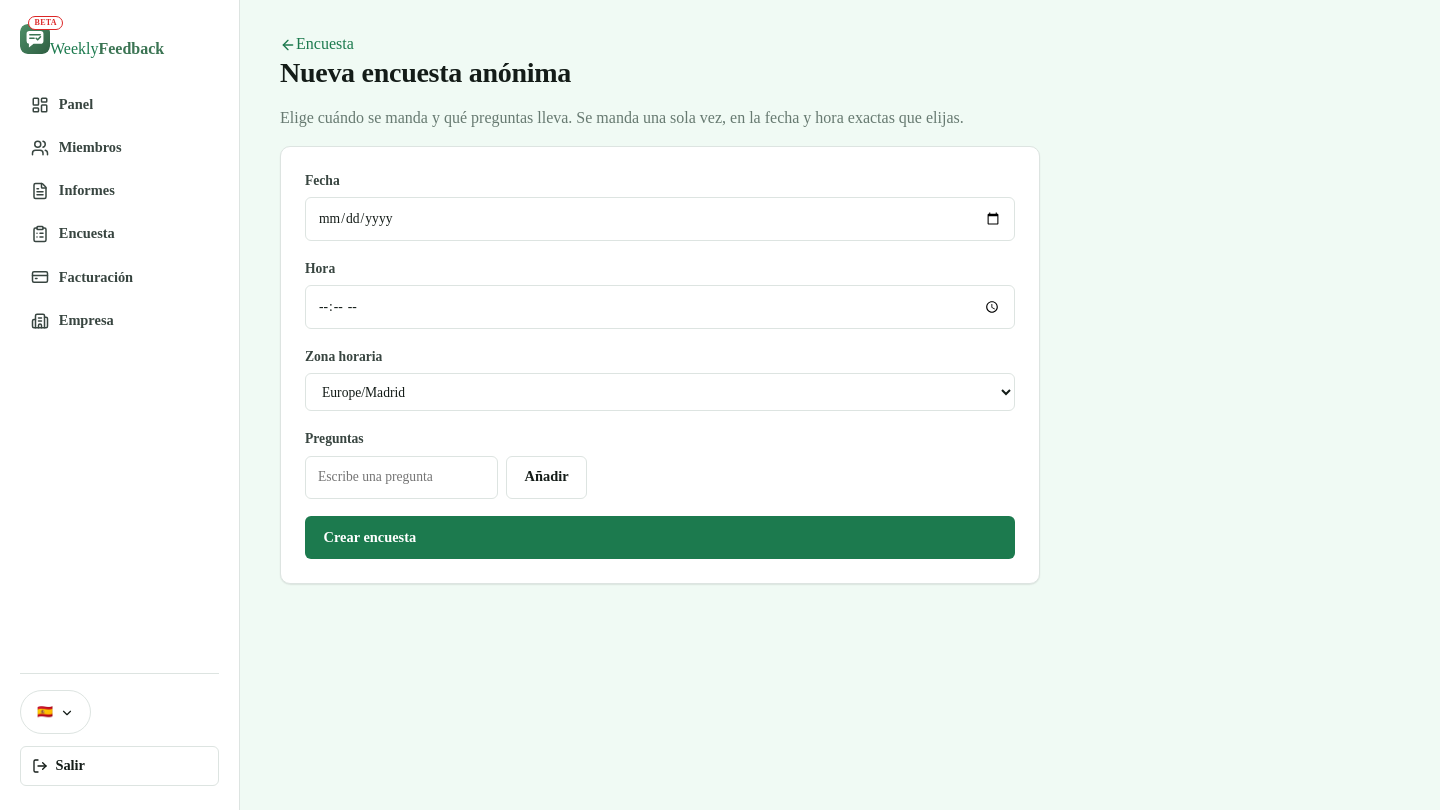
NewSurveyPage › fallo que no es ApiError: mensaje genérico
Type "2099-01-01" into the date field labelled "Fecha". click: (660, 219)
box: x1=305 y1=197 x2=1015 y2=241
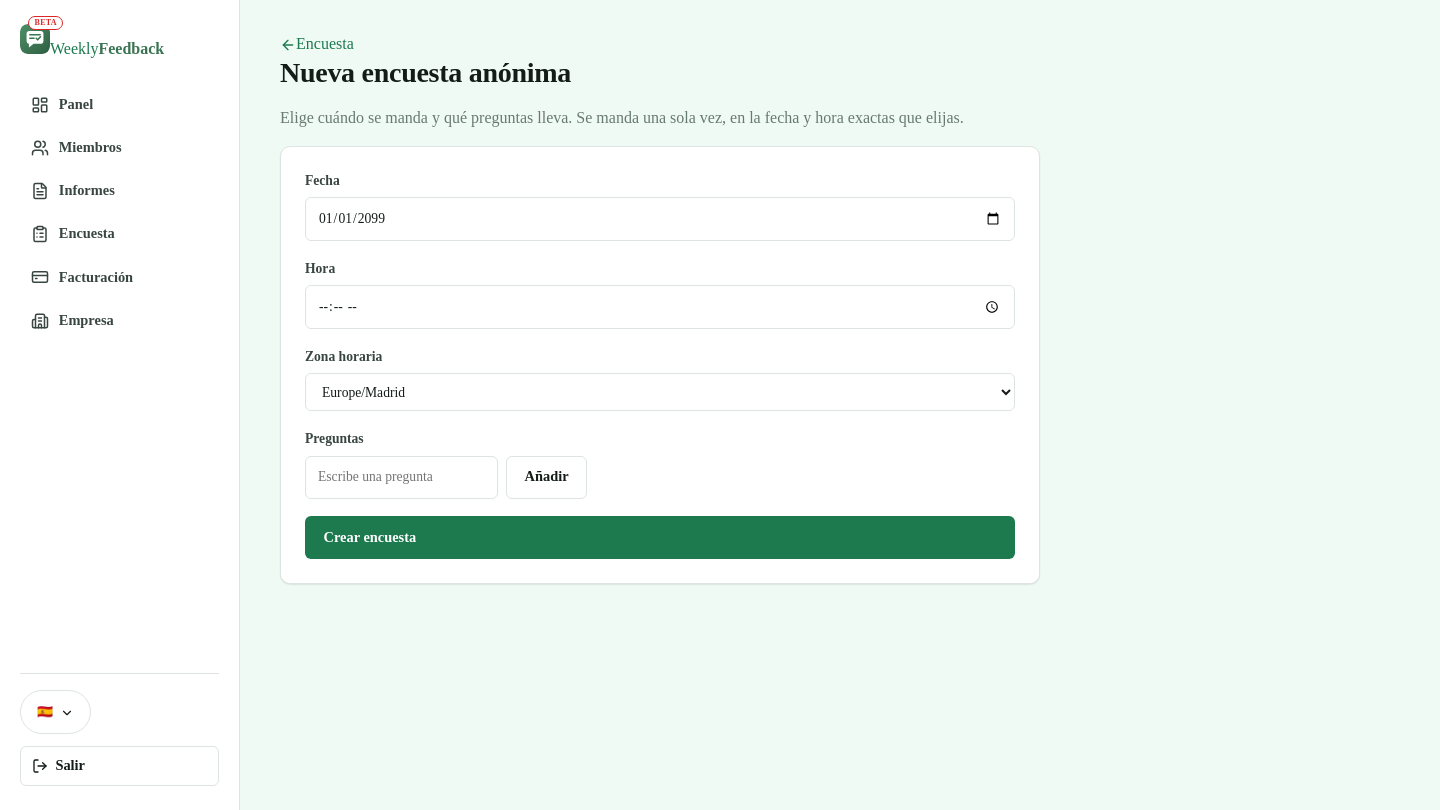
Type "10:00" into the time field labelled "Hora". click: (660, 307)
box: x1=305 y1=285 x2=1015 y2=329
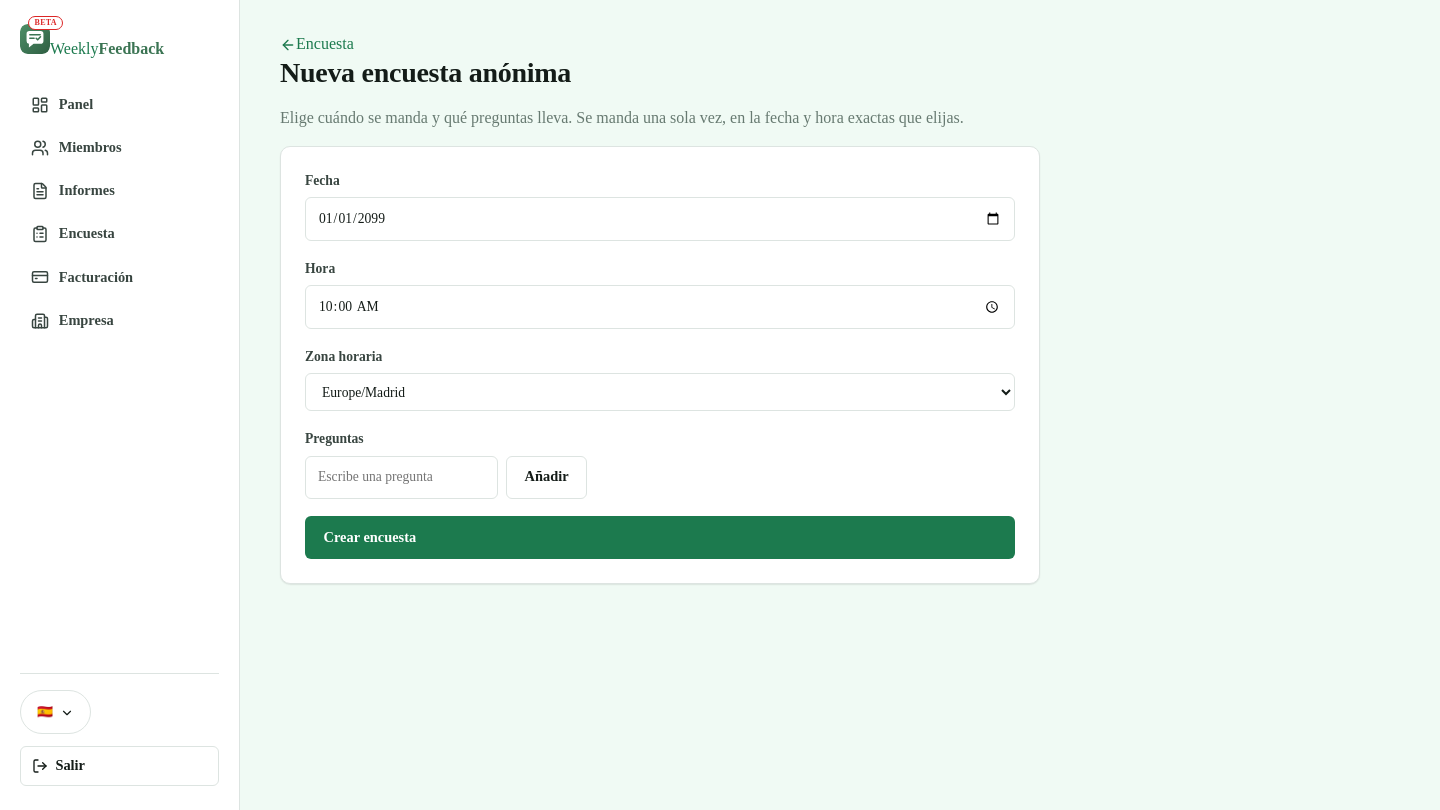
Type "¿Qué tal?" into the field with placeholder "Escribe una pregunta". click: (402, 477)
box: x1=305 y1=456 x2=498 y2=499
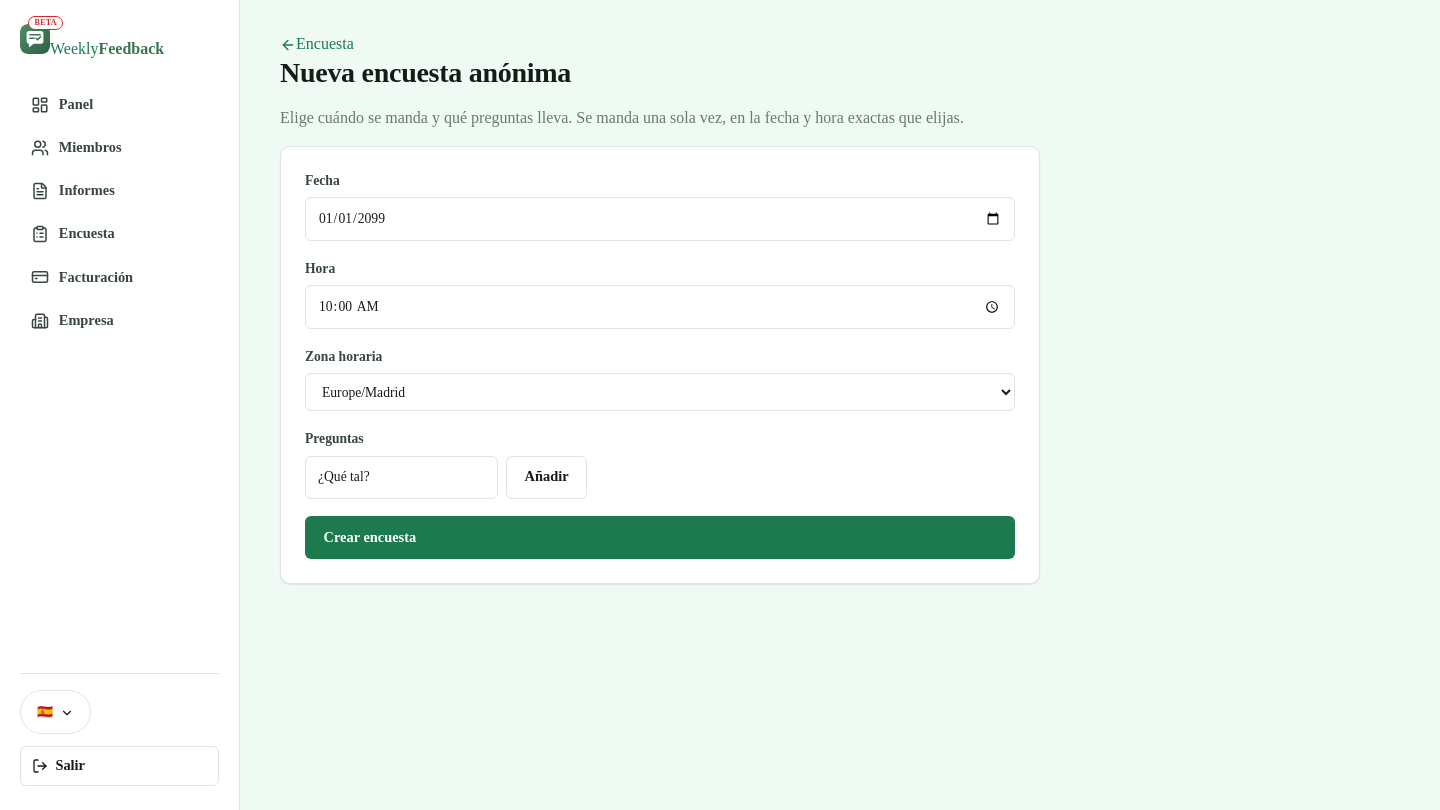
Click the button "Añadir". click: (547, 477)
box: x1=506 y1=456 x2=587 y2=499
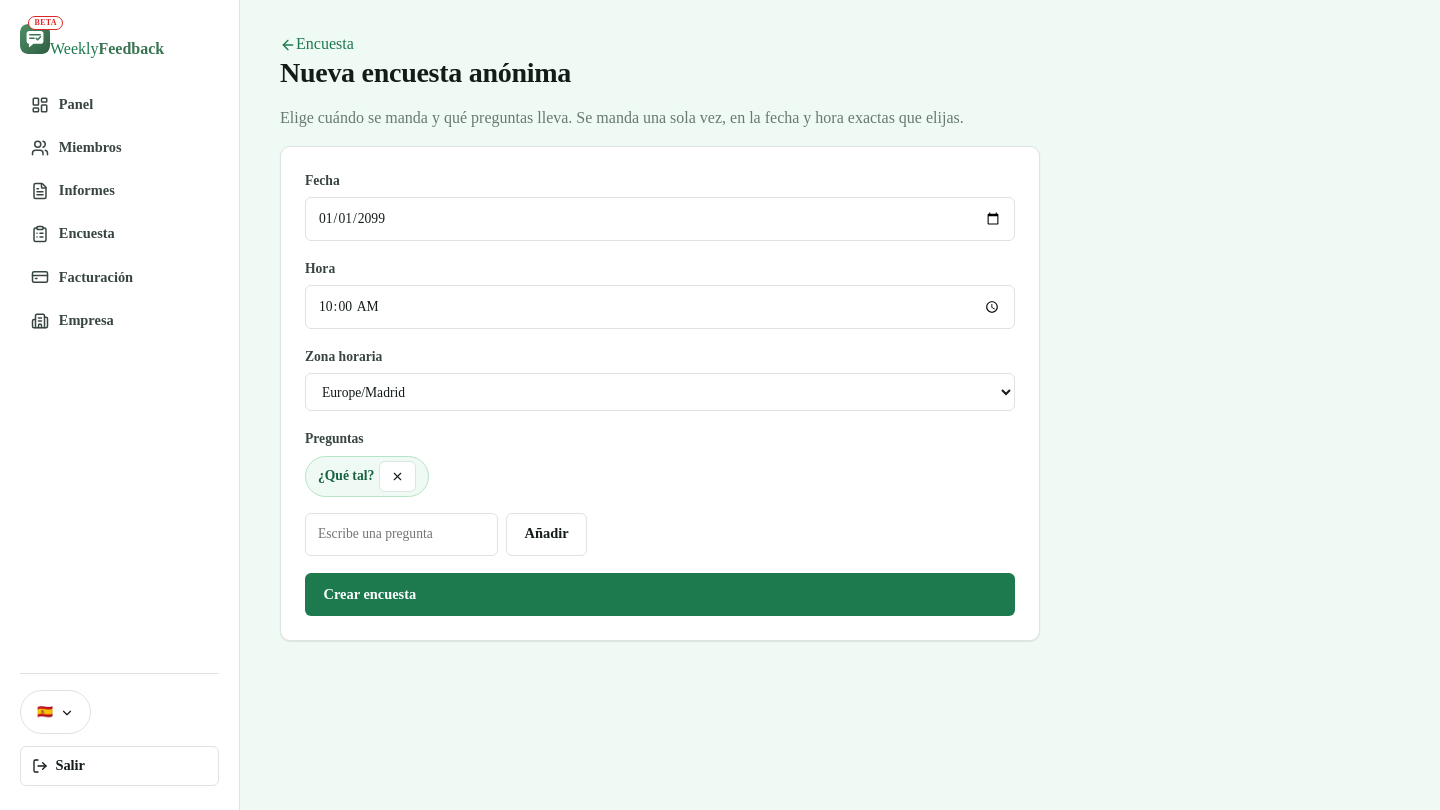
Click the button "Crear encuesta". click: (370, 594)
box: x1=305 y1=573 x2=1015 y2=616
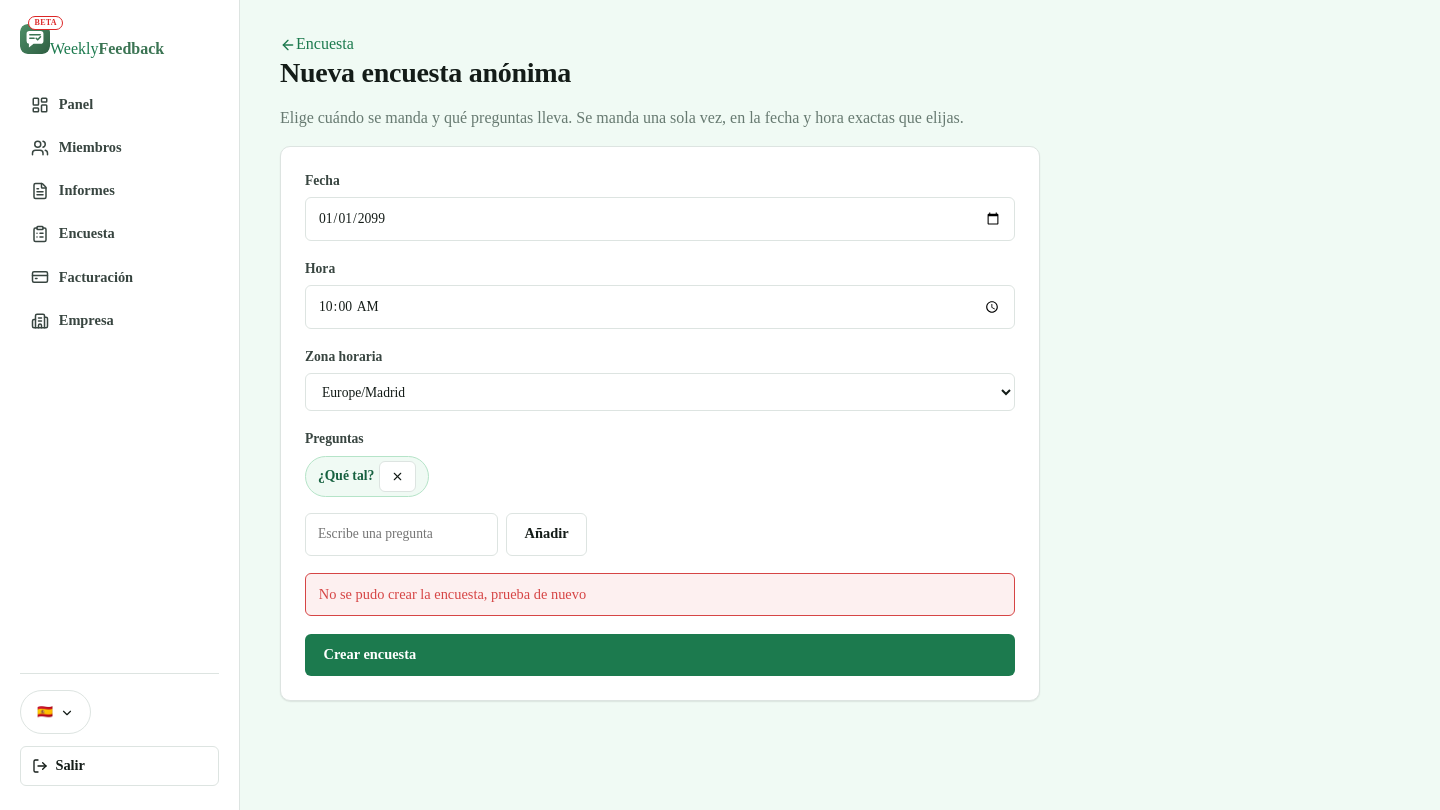
Now the message reads "No se pudo crear la encuesta, prueba de nuevo", box x1=319 y1=586 x2=586 y2=602
